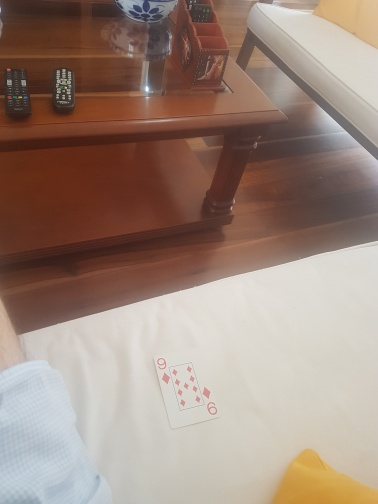nine: (152, 346, 223, 428)
